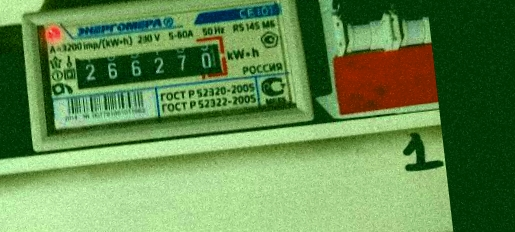0: (198, 49, 211, 70)
2: (81, 60, 97, 82), (151, 54, 165, 75)
6: (104, 59, 118, 81), (128, 57, 142, 77)
7: (174, 51, 188, 72)
screen: (59, 27, 238, 102)
